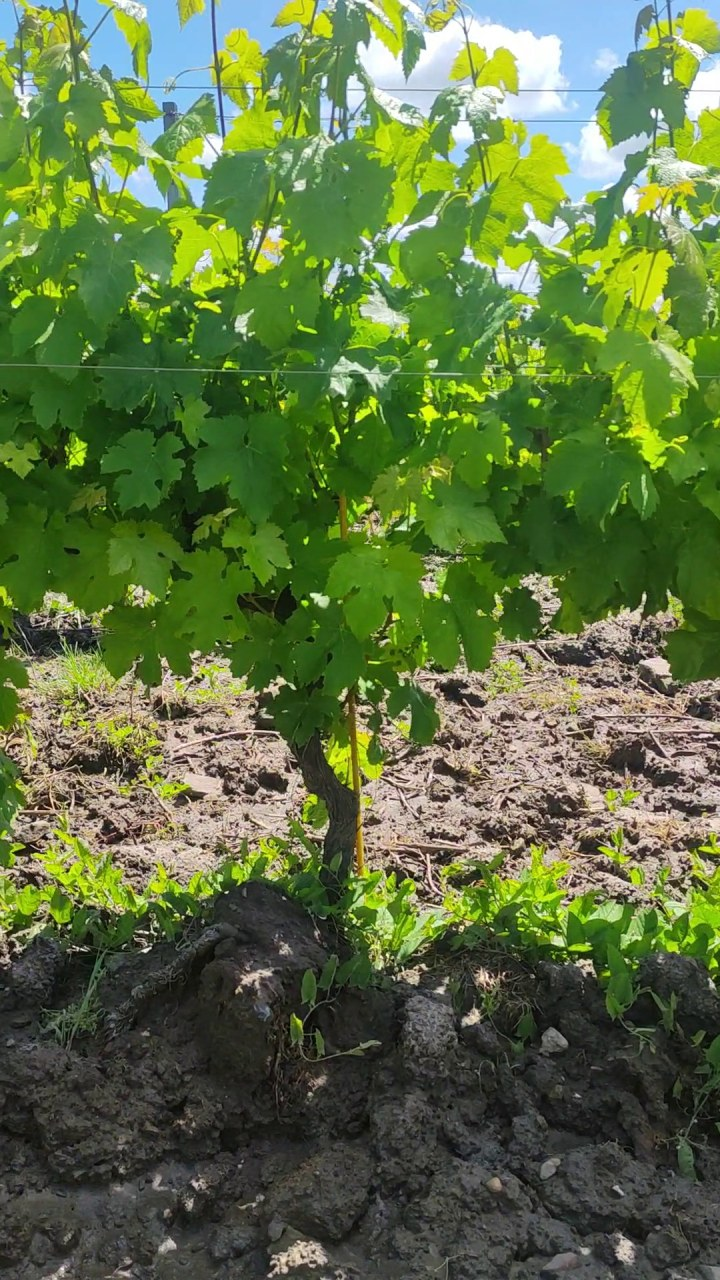vine_trunk: (285, 733, 358, 897)
